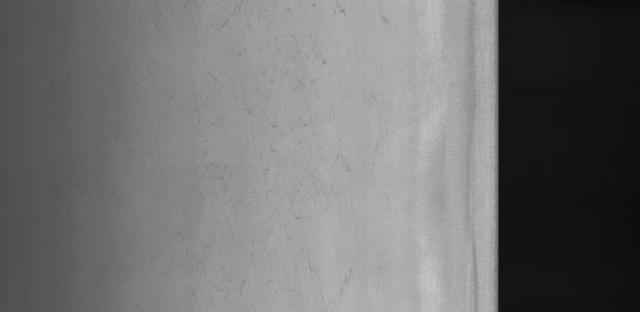silk_spot: (206, 22, 367, 278)
